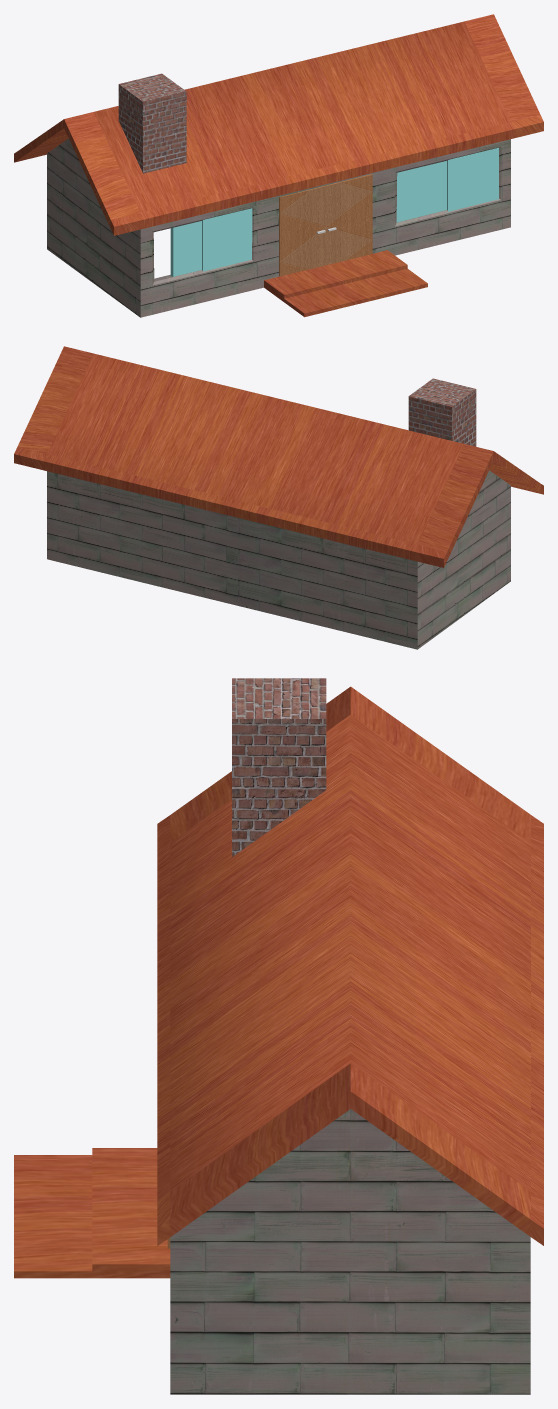
The picture shows the model from 3 angles, top to bottom: view 1: azimuth 30°, elevation 25°; view 2: azimuth 150°, elevation 25°; view 3: azimuth 270°, elevation 25°; orthographic projection. The views are drawn at different scales.
Visible parts, largest first — view 1: 지붕, 본체, Box001, 계단, Box004, 창문 오른쪽001, 창문 오른쪽, 창문 왼쪽001, 창문 왼쪽; view 2: 지붕, 본체, Box004; view 3: 지붕, 본체, 계단, Box004.
Boxes of the visible parts, bbox=[...] form: 지붕: bbox=[14, 14, 543, 235]; 본체: bbox=[47, 138, 510, 317]; Box001: bbox=[279, 174, 372, 276]; 계단: bbox=[264, 250, 427, 317]; Box004: bbox=[118, 73, 186, 173]; 창문 오른쪽001: bbox=[447, 147, 498, 211]; 창문 오른쪽: bbox=[202, 208, 252, 271]; 창문 왼쪽001: bbox=[396, 161, 446, 222]; 창문 왼쪽: bbox=[170, 221, 201, 276]; 지붕: bbox=[14, 346, 543, 567]; 본체: bbox=[47, 470, 510, 649]; Box004: bbox=[408, 378, 476, 446]; 지붕: bbox=[157, 686, 543, 1245]; 본체: bbox=[170, 1109, 530, 1394]; 계단: bbox=[14, 1148, 170, 1278]; Box004: bbox=[232, 678, 326, 856].
Bounding box in the file's own units: 215 × 95.47 × 119.
Materials: 5 (4 with a texture image).
